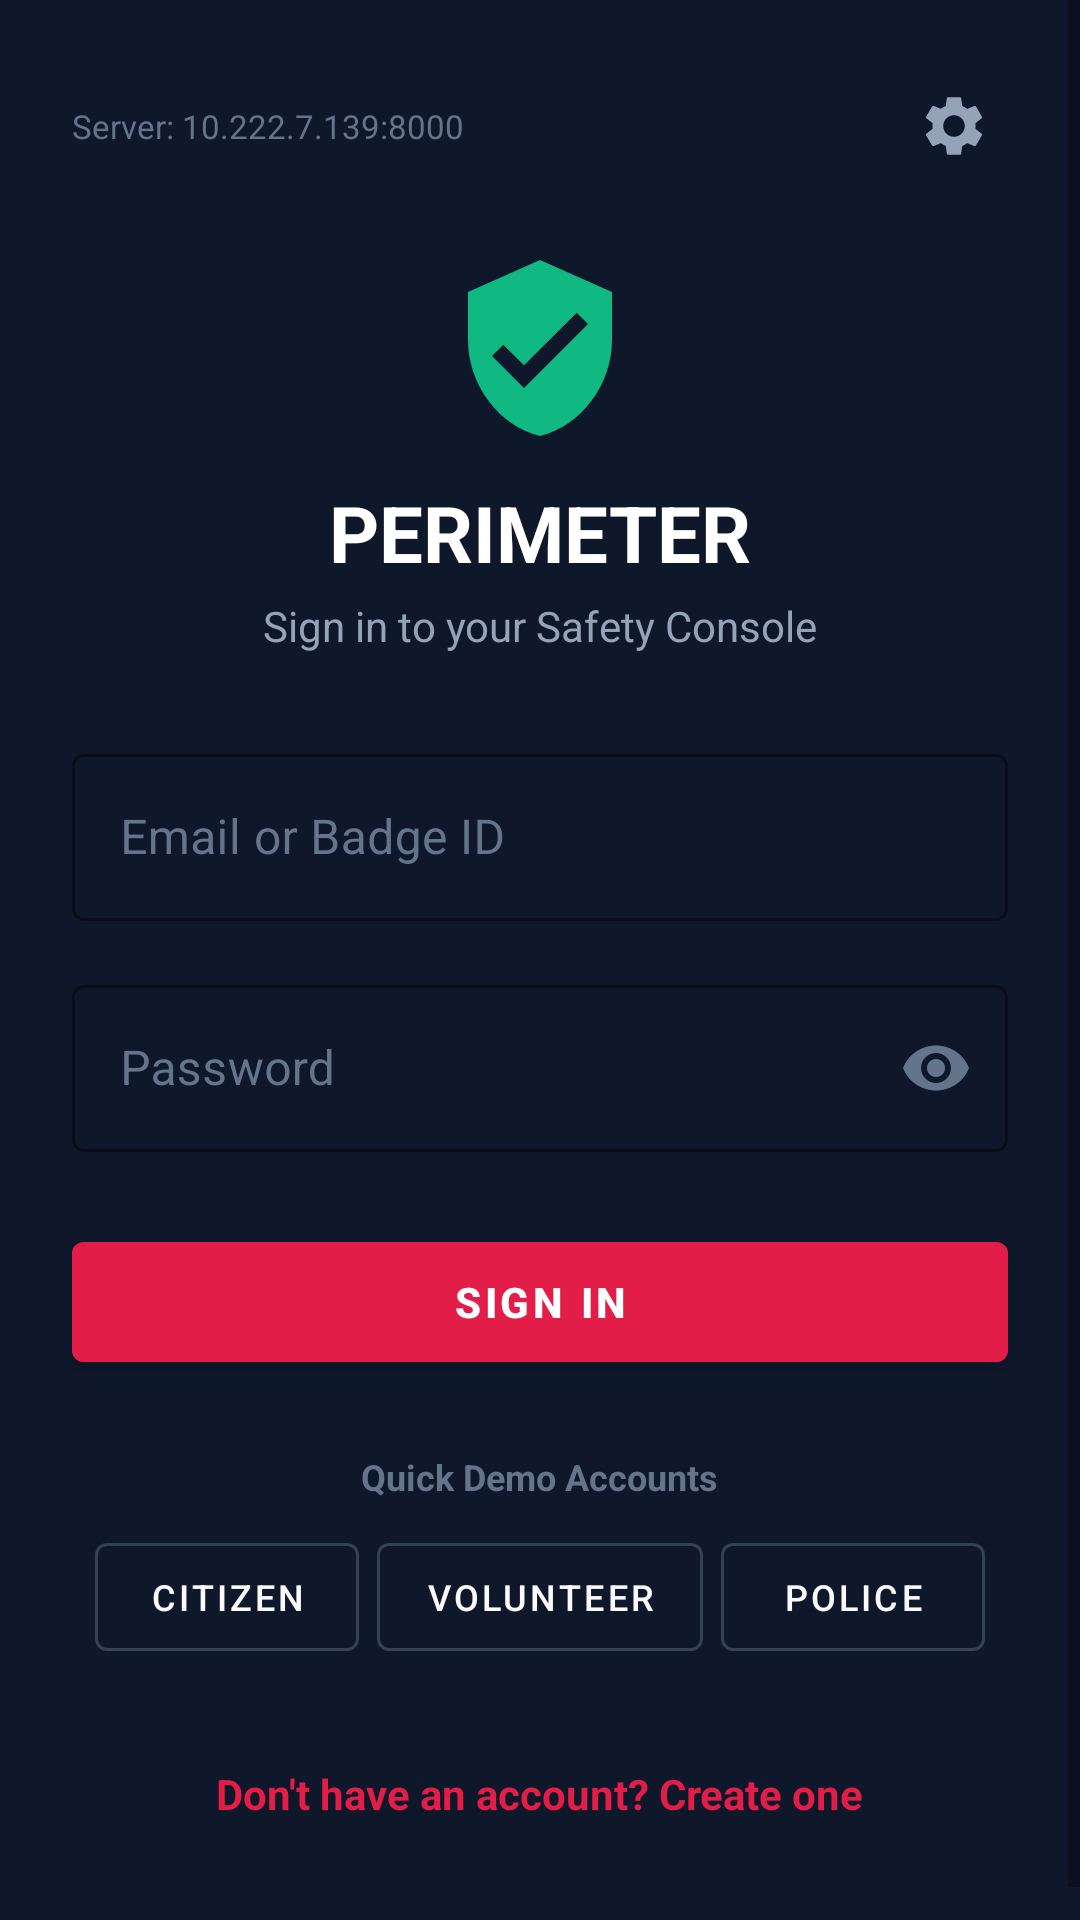

Where to tap for icons on this 1080 × 1920 app screen, as point (x, y):
Server Settings: point (954, 126)
shield check: point (540, 348)
